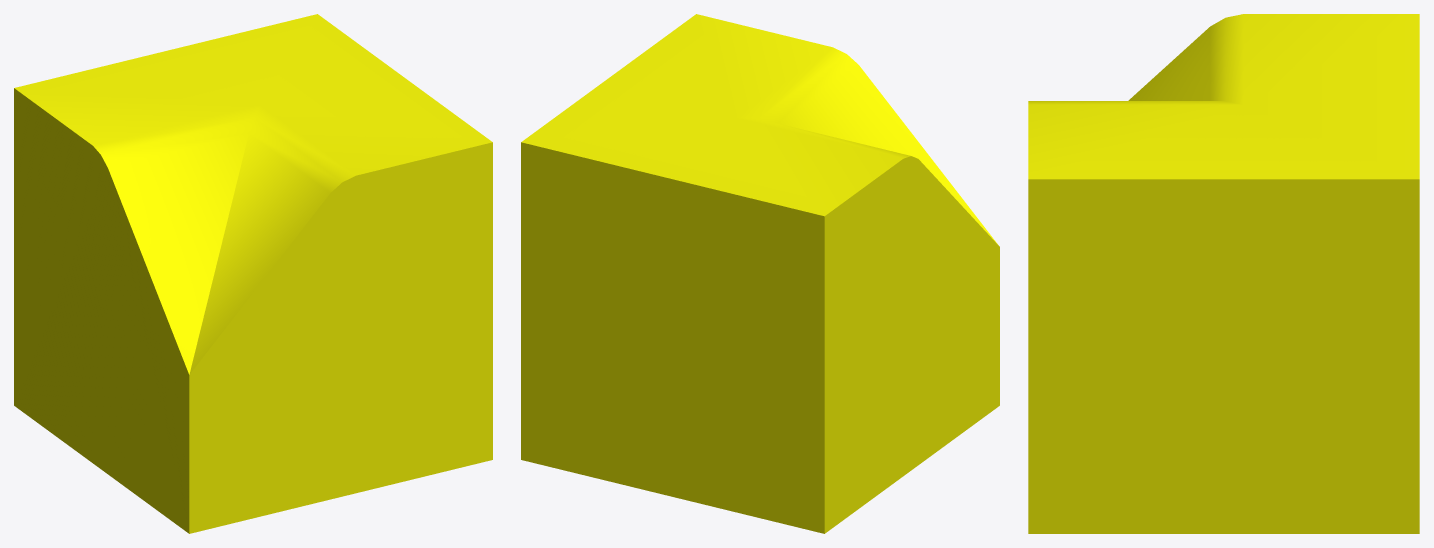
File: kaykit-terrain-slope-inner-corner.glb
The picture shows the model from 3 angles, left to right: view 1: azimuth 30°, elevation 25°; view 2: azimuth 150°, elevation 25°; view 3: azimuth 270°, elevation 25°; orthographic projection. The views are drawn at different scales.
Parts seen in each view (by area): view 1: terrain_slope_inner_corner; view 2: terrain_slope_inner_corner; view 3: terrain_slope_inner_corner.
Part boxes in pixels (bbox=[...]): terrain_slope_inner_corner: bbox=[14, 14, 492, 533]; terrain_slope_inner_corner: bbox=[521, 14, 999, 533]; terrain_slope_inner_corner: bbox=[1028, 14, 1419, 533].
Size of the model in its own units: 2 by 2 by 2.
